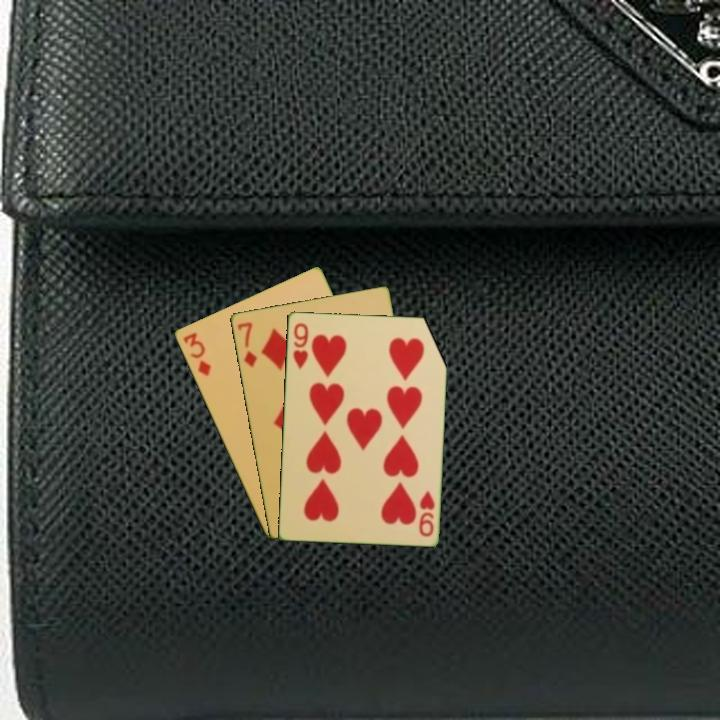3d: (179, 329, 214, 379)
7d: (233, 318, 260, 370)
9h: (289, 319, 311, 371), (415, 487, 437, 539)
